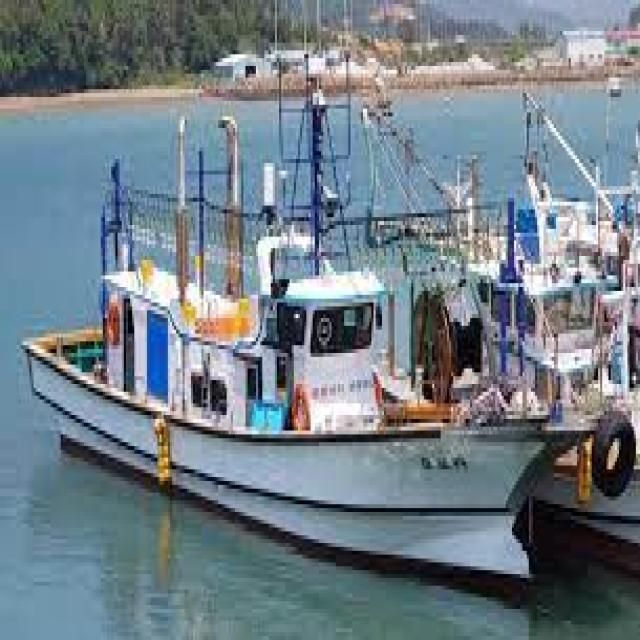Ship: (18, 52, 606, 622)
